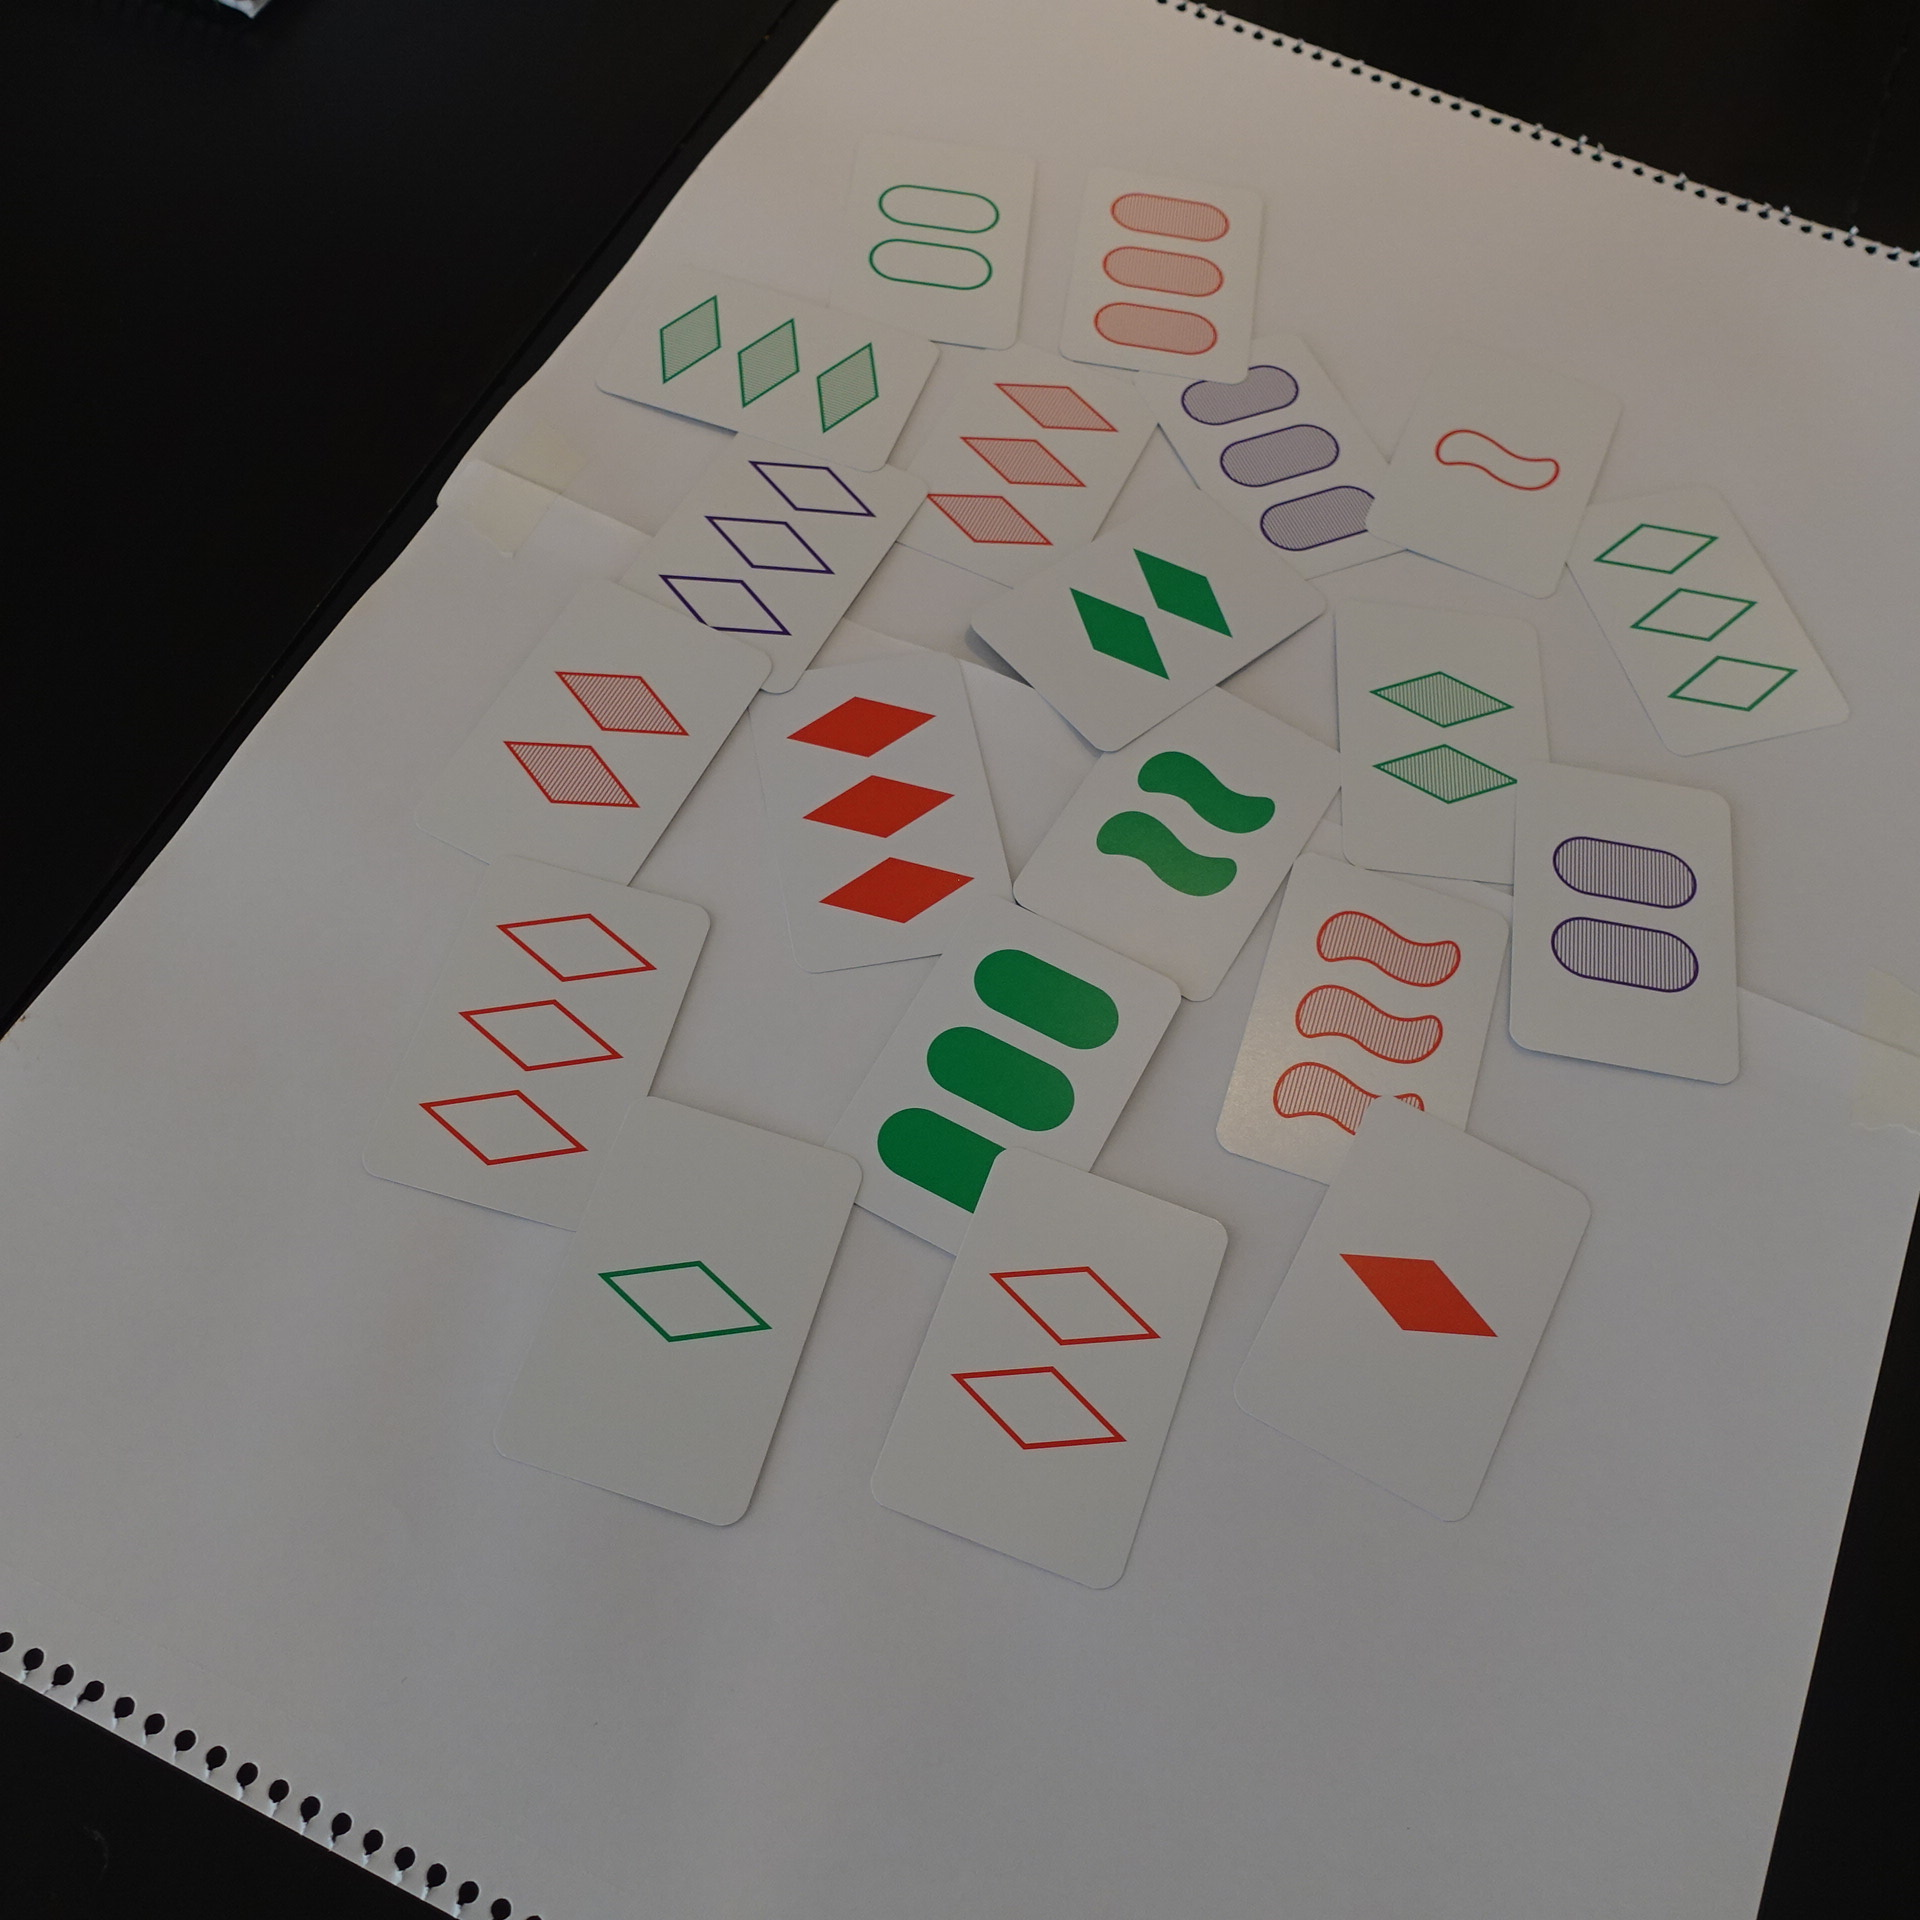c-1-f-d-r: (1231, 1097, 1589, 1523)
c-1-u-d-g: (489, 1094, 860, 1528)
c-1-u-s-r: (1371, 336, 1626, 600)
c-2-f-d-g: (965, 491, 1333, 753)
c-2-f-s-g: (1000, 675, 1342, 993)
c-2-h-d-g: (1340, 607, 1556, 890)
c-2-h-d-r: (415, 578, 770, 904)
c-2-h-o-p: (1514, 754, 1744, 1090)
c-2-u-d-r: (877, 1150, 1233, 1589)
c-2-u-o-g: (839, 135, 1036, 352)
c-3-f-d-r: (742, 652, 1023, 974)
c-3-f-o-g: (832, 898, 1182, 1282)
c-3-h-d-g: (600, 267, 942, 478)
c-3-h-d-r: (891, 341, 1173, 593)
c-3-h-o-p: (1139, 324, 1422, 591)
c-3-h-o-r: (1058, 167, 1269, 383)
c-3-h-s-r: (1225, 853, 1516, 1208)
c-3-u-d-g: (1558, 485, 1851, 760)
c-3-u-d-p: (610, 424, 928, 689)
c-3-u-d-r: (360, 856, 721, 1238)
